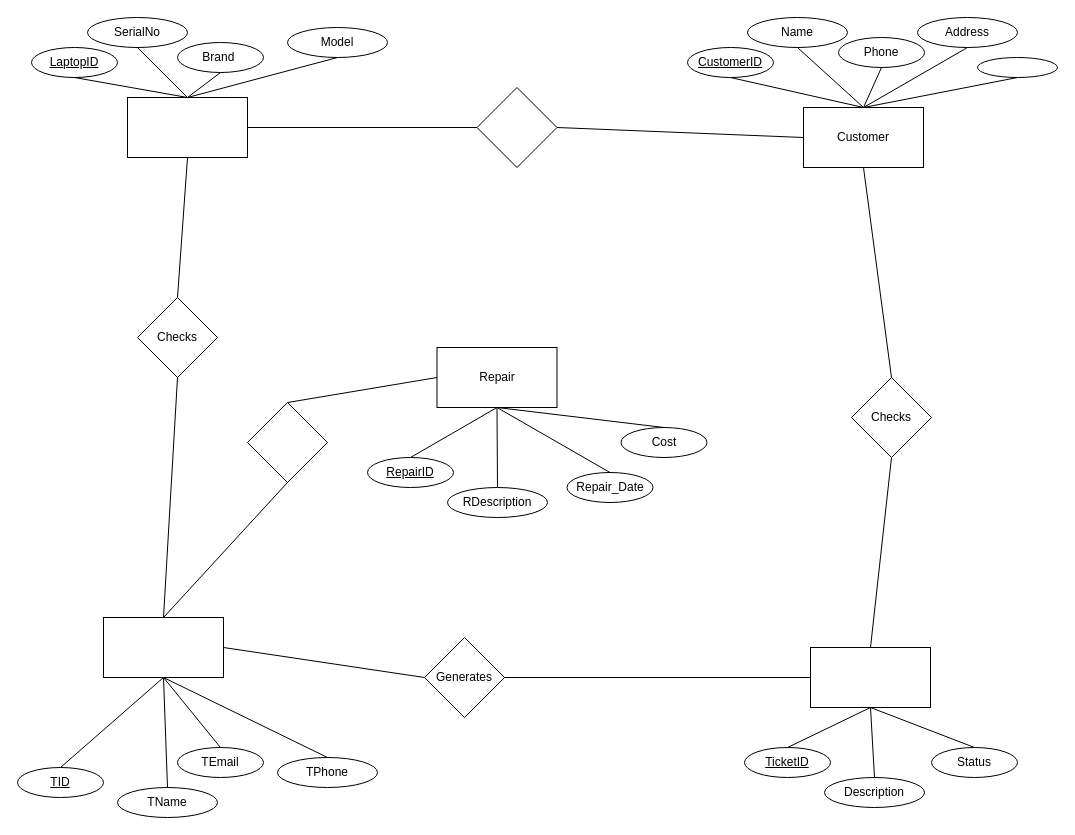
This 1075x835 diagram has some shape labels left out. The centre of each missing label's shape, as x and y in pixels:
"Adds" belongs at (x=516, y=127).
"Email" belongs at (x=1017, y=67).
"Laptop" belongs at (x=187, y=127).
"Performs" belongs at (x=287, y=442).
"Support_ticket" belongs at (x=870, y=677).
"technician" belongs at (x=163, y=647).
